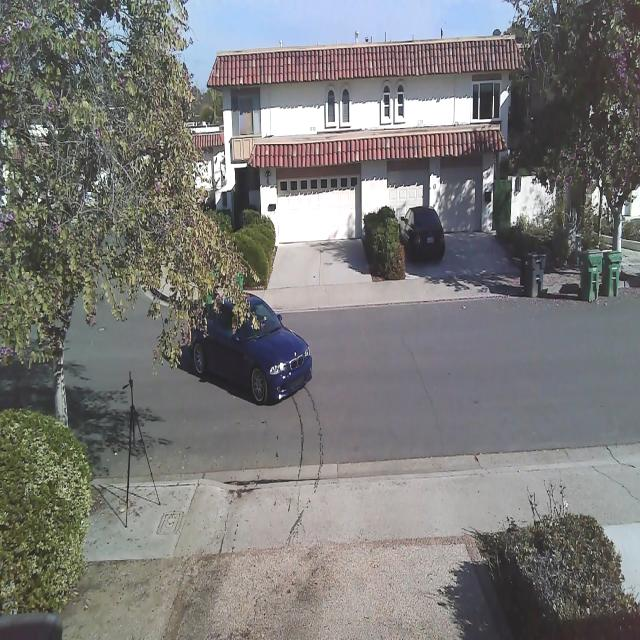Carbeetle: (178, 282, 312, 412)
Civilian: (397, 206, 445, 264)
